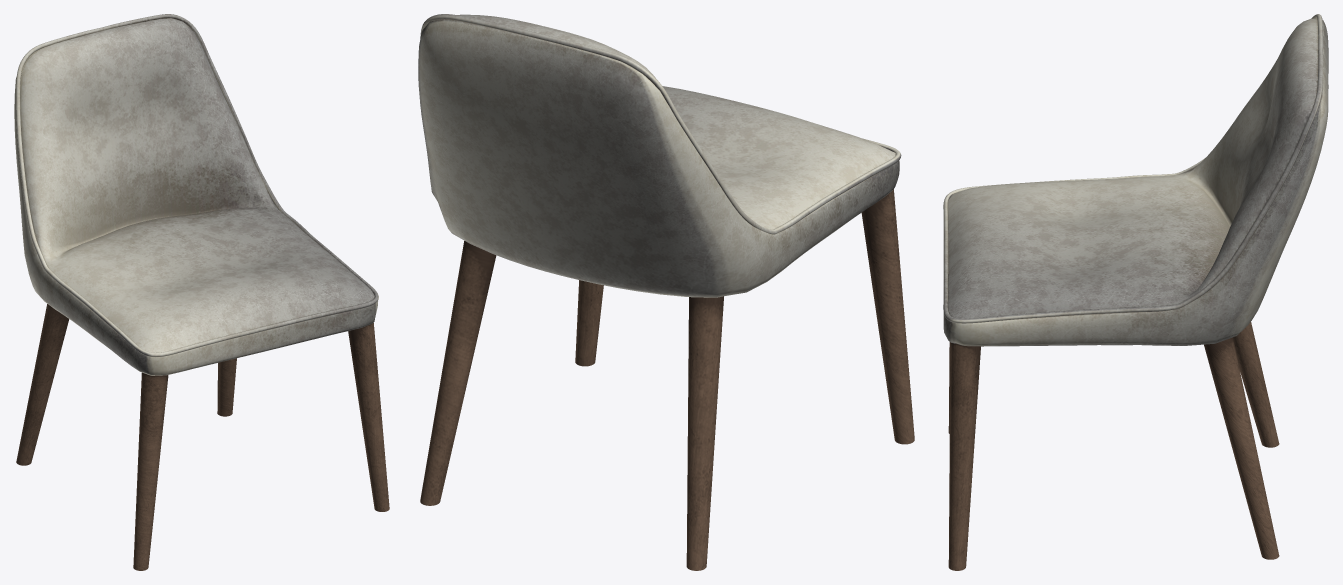
3 views of the same model, side by side, from view 1: azimuth 30°, elevation 25°; view 2: azimuth 150°, elevation 25°; view 3: azimuth 270°, elevation 25° (orthographic). The views are drawn at different scales.
Visible parts, largest first — view 1: 3D_chair_11; view 2: 3D_chair_11; view 3: 3D_chair_11.
Part boxes in pixels (x1=…): 3D_chair_11: x1=14, y1=14, x2=389, y2=570; 3D_chair_11: x1=418, y1=14, x2=914, y2=570; 3D_chair_11: x1=943, y1=14, x2=1328, y2=570.
Bounding box in the file's own units: 0.5398 × 0.8004 × 0.6196.
Materials: 1 (1 with a texture image).
